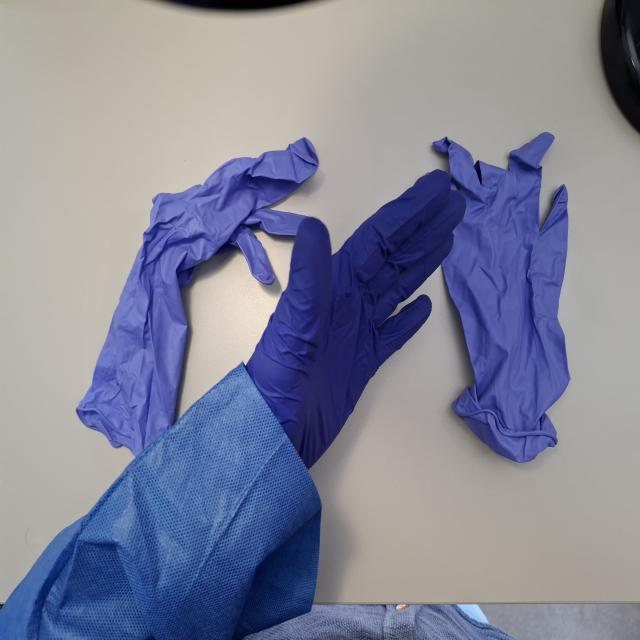glove_on: (242, 166, 469, 481)
